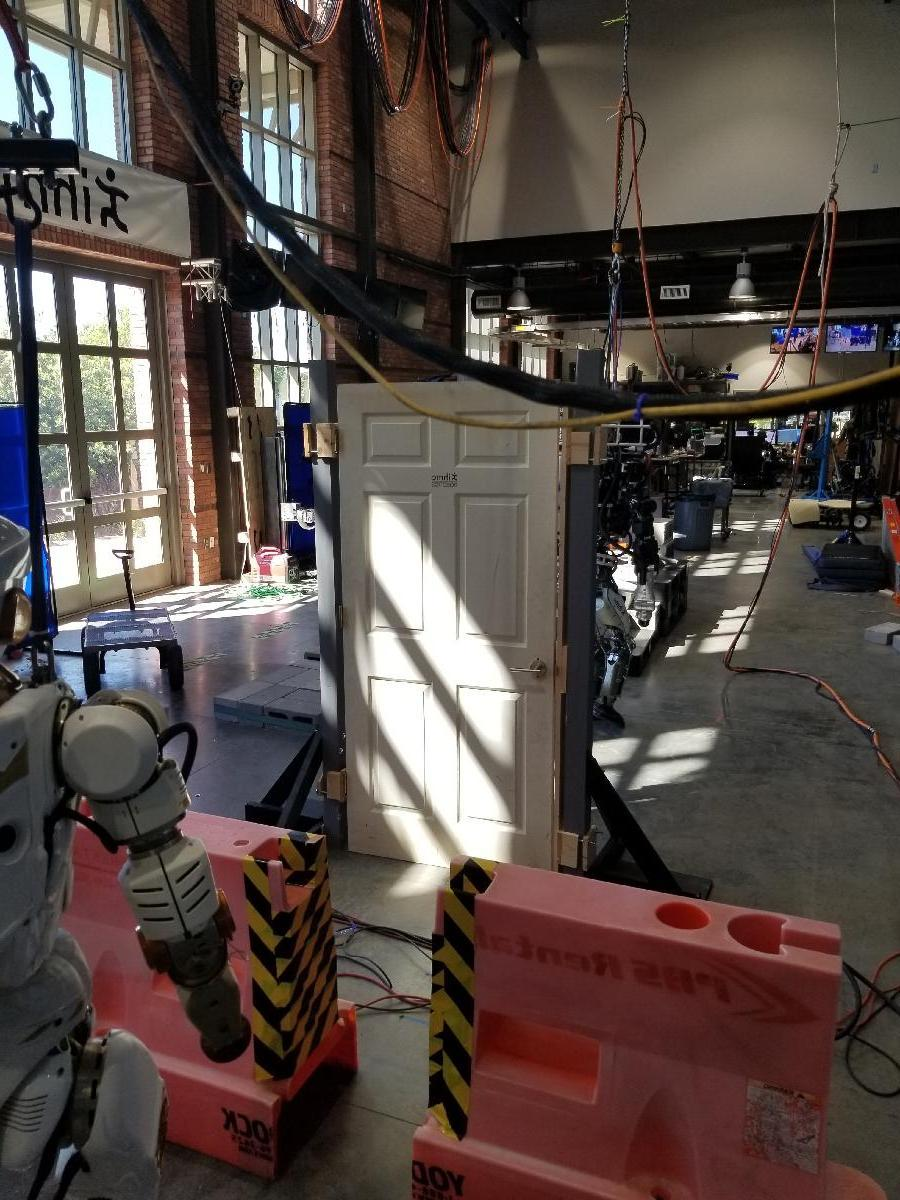door: (338, 380, 560, 868)
handle: (507, 657, 545, 679)
